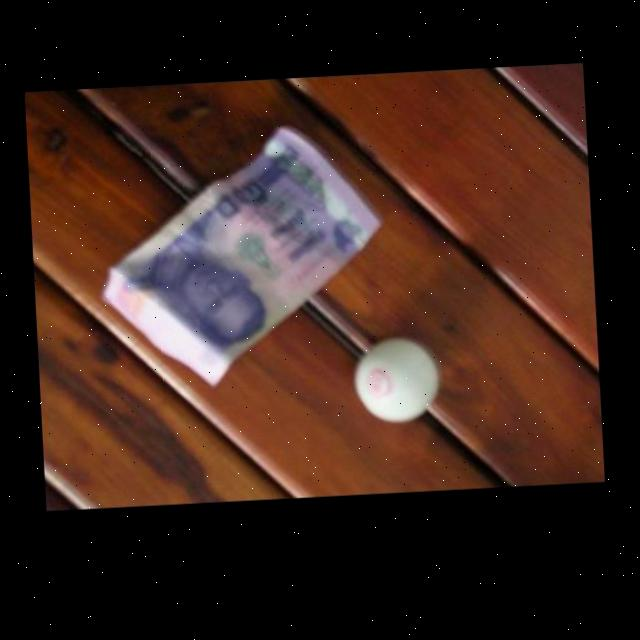ping-pong-ball: (348, 331, 442, 425)
